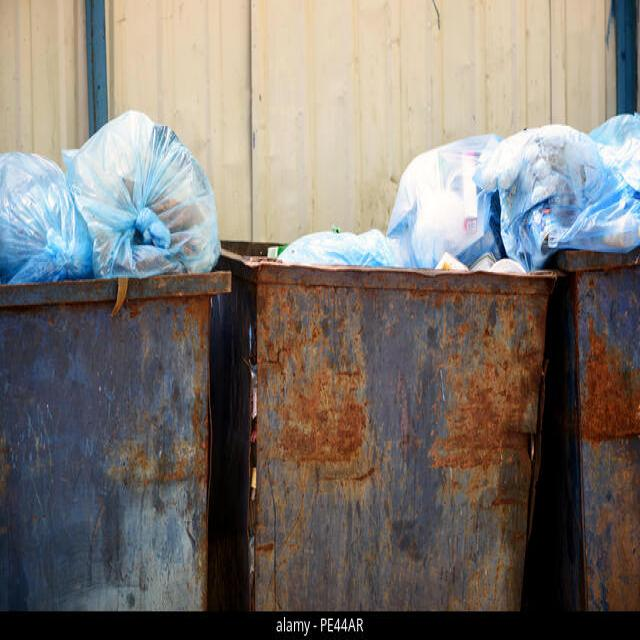metal: (254, 265, 529, 564)
trash: (421, 149, 584, 252), (82, 134, 195, 264)
